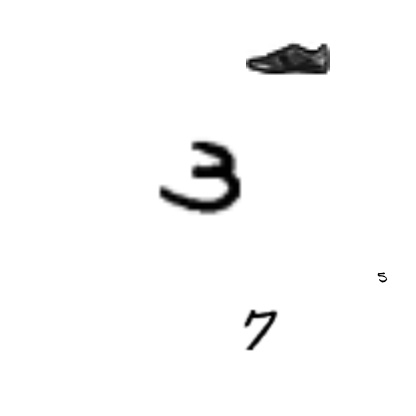3: (152, 122, 264, 234)
5: (375, 270, 389, 284)
7: (231, 296, 287, 352)
Sneaker: (246, 17, 330, 101)
